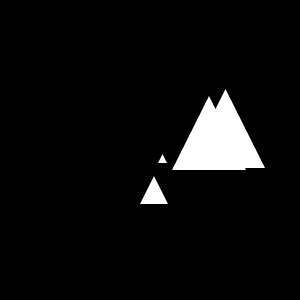triangle: (186, 89, 265, 168), (172, 96, 246, 170), (140, 176, 168, 204), (158, 154, 167, 163)
